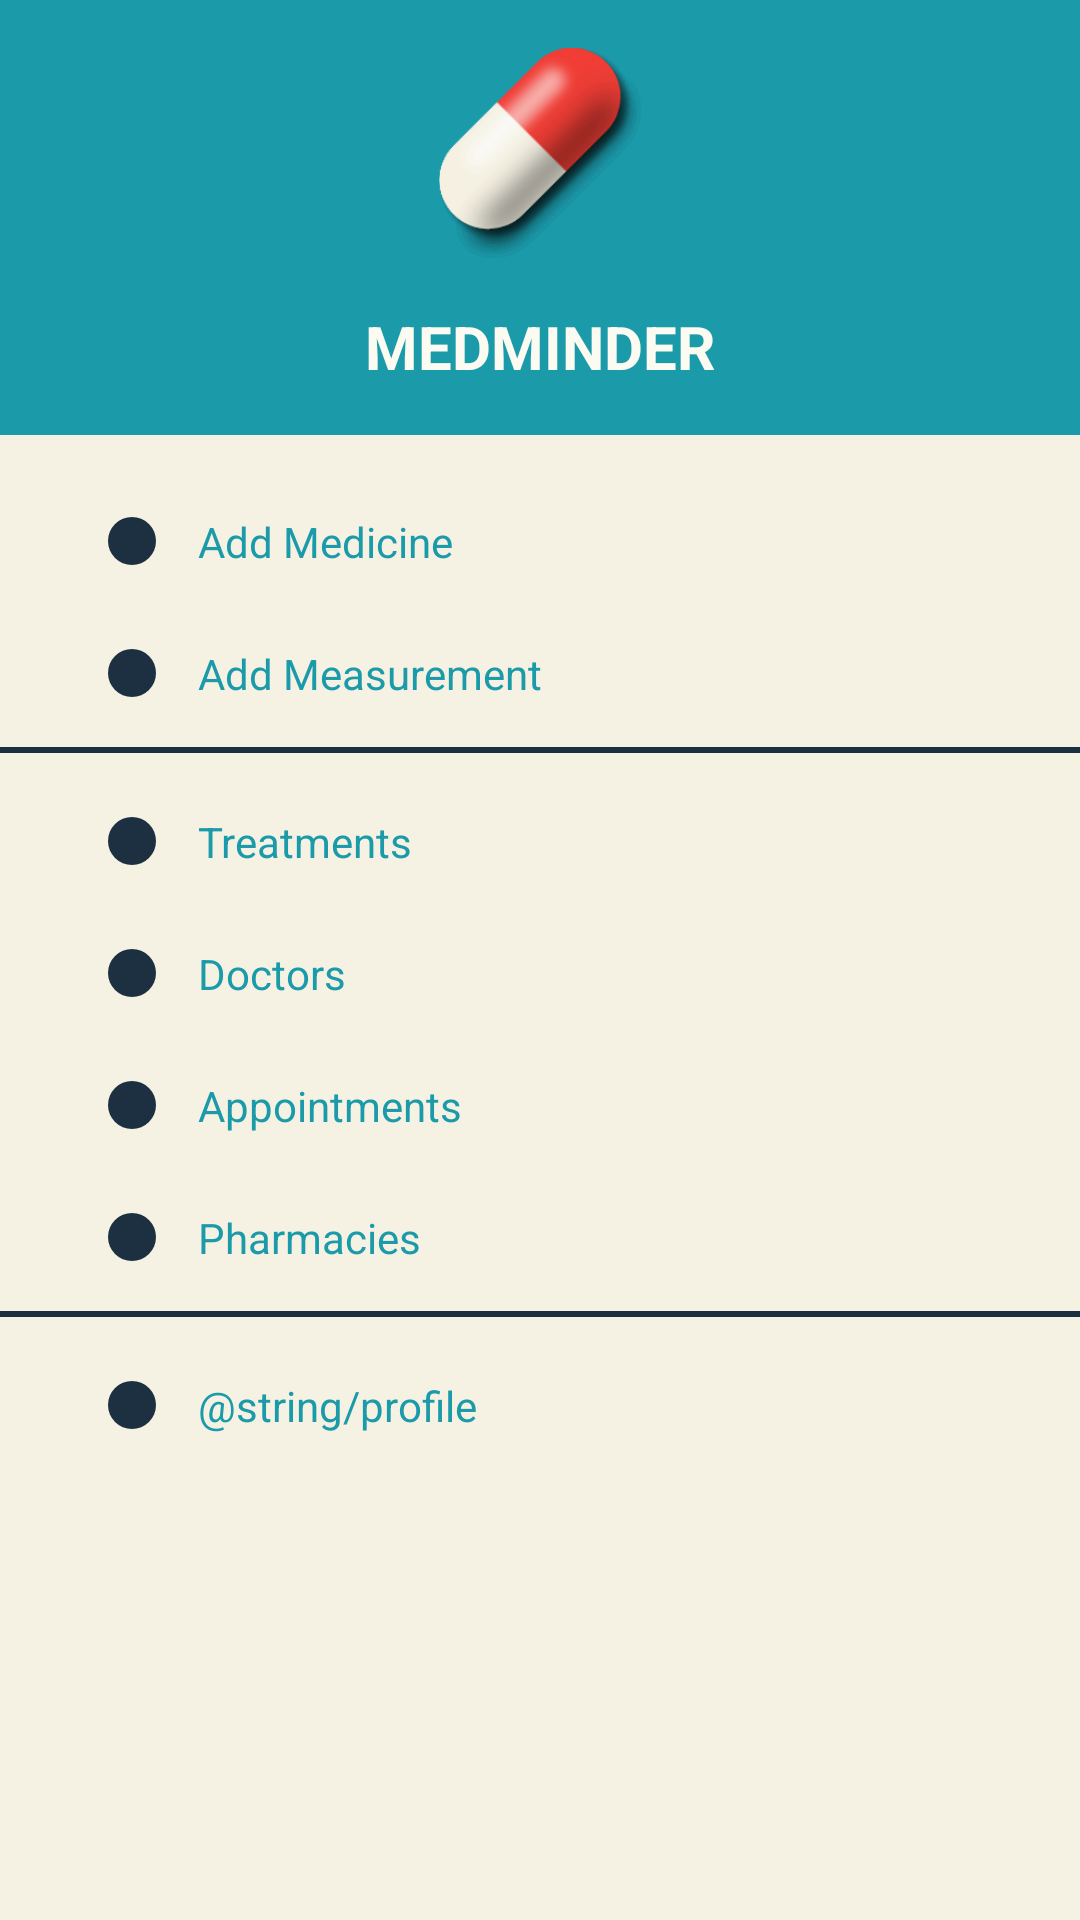

Named icons in this screenshot (1080*1920) and their bounding boxes, (x1, y1, x2, y2):
ac pill: (439, 48, 633, 250)
bullet: (108, 517, 156, 565), (108, 649, 156, 697), (108, 817, 156, 865), (108, 949, 156, 997), (108, 1081, 156, 1129), (108, 1213, 156, 1261), (108, 1381, 156, 1429)
